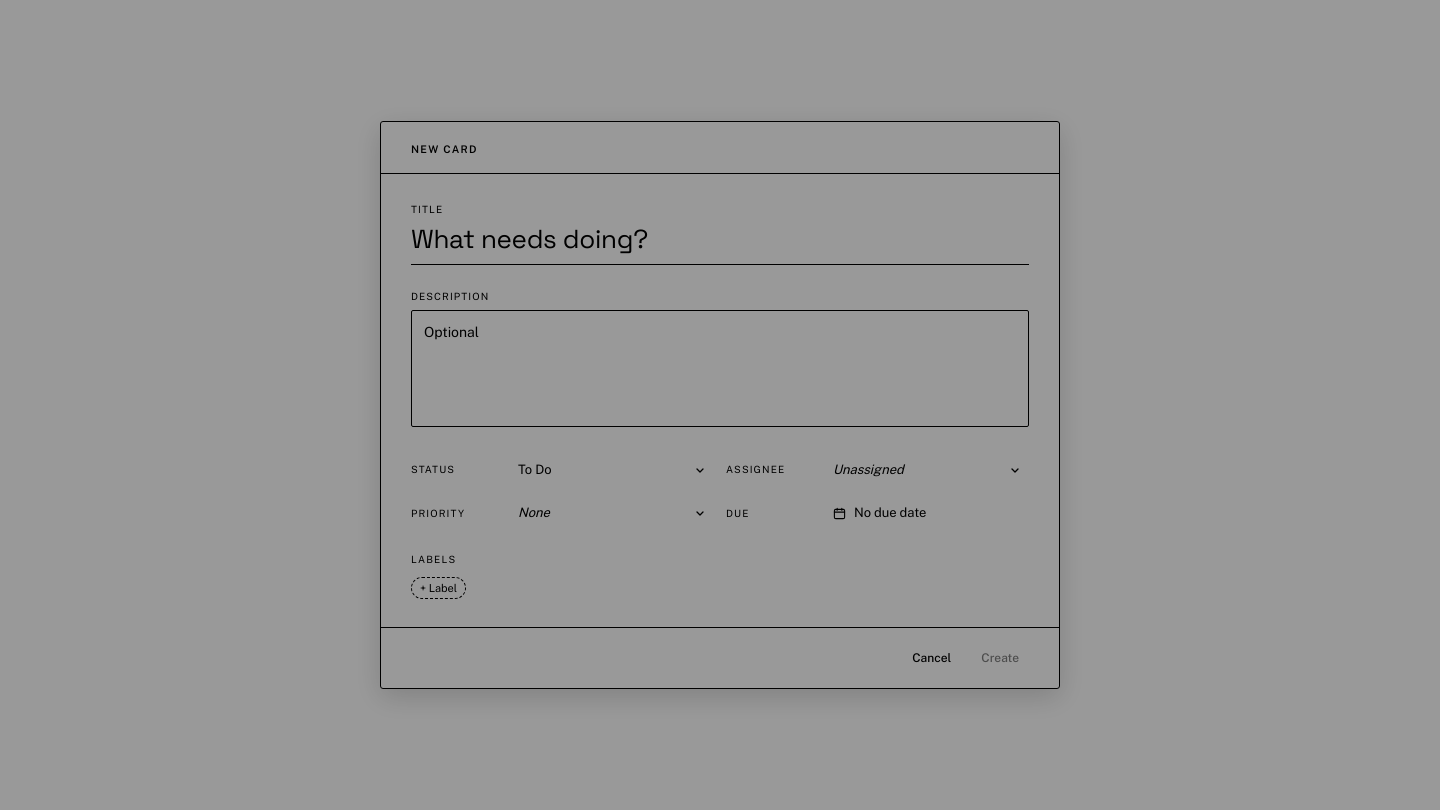
Test: CreateCardDialog › stays open and keeps what was typed when the create is rejected (S3.2)
In the field labelled "Title": x=720, y=244 [411, 223, 1029, 265], type "Worth keeping"
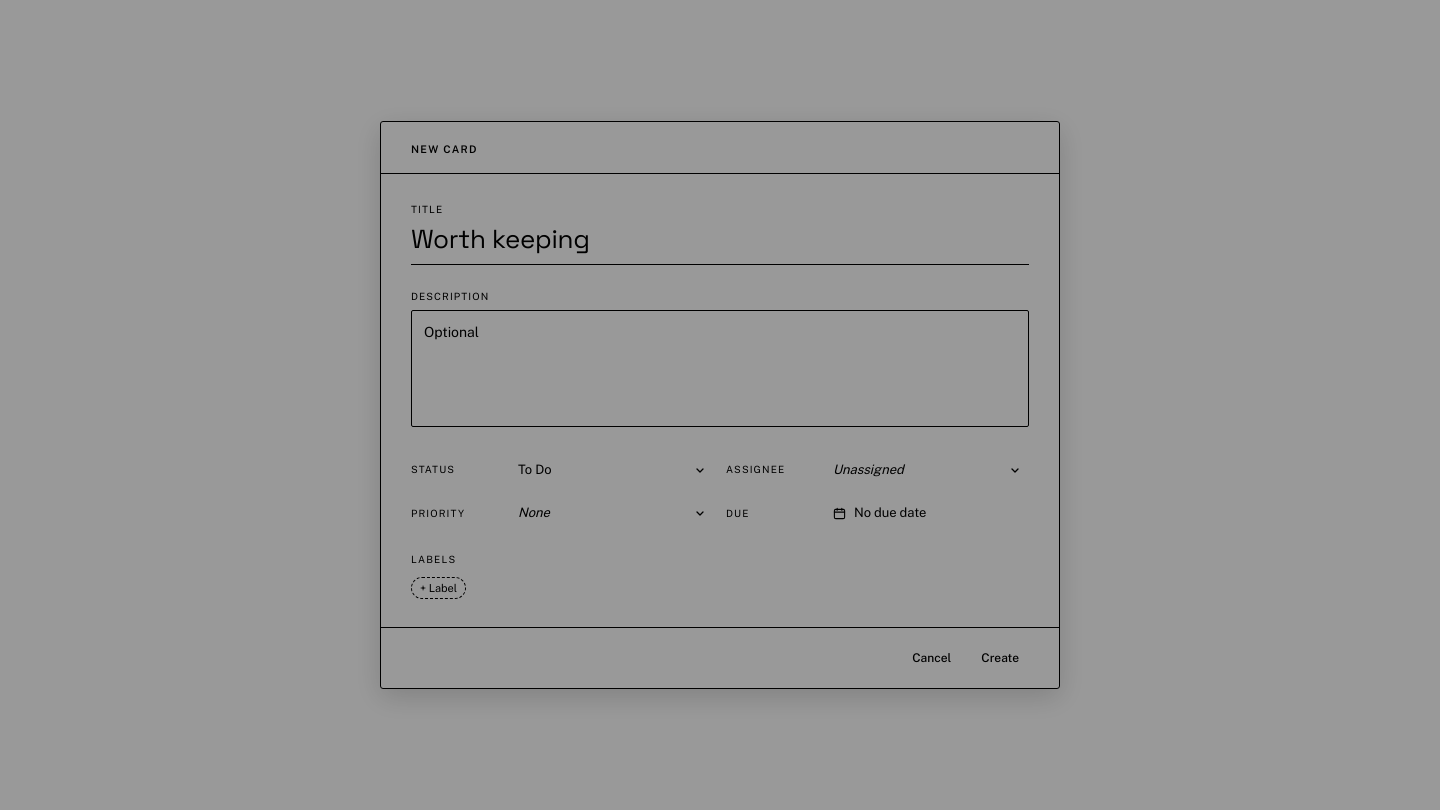
Click the button "Create": x=1000, y=658 [971, 644, 1029, 672]
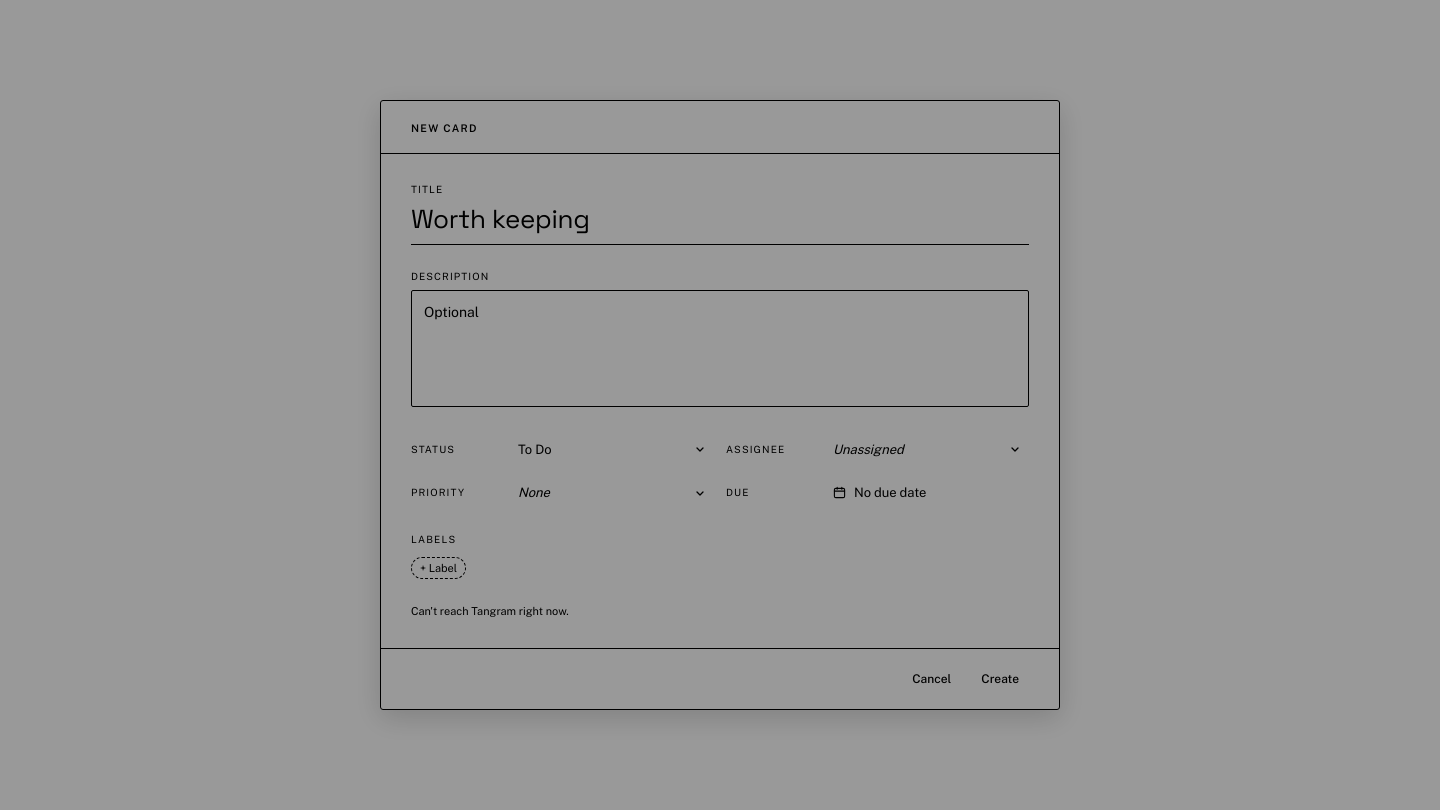
Expected: the message shows "Can't reach Tangram", [411, 605, 569, 617]
